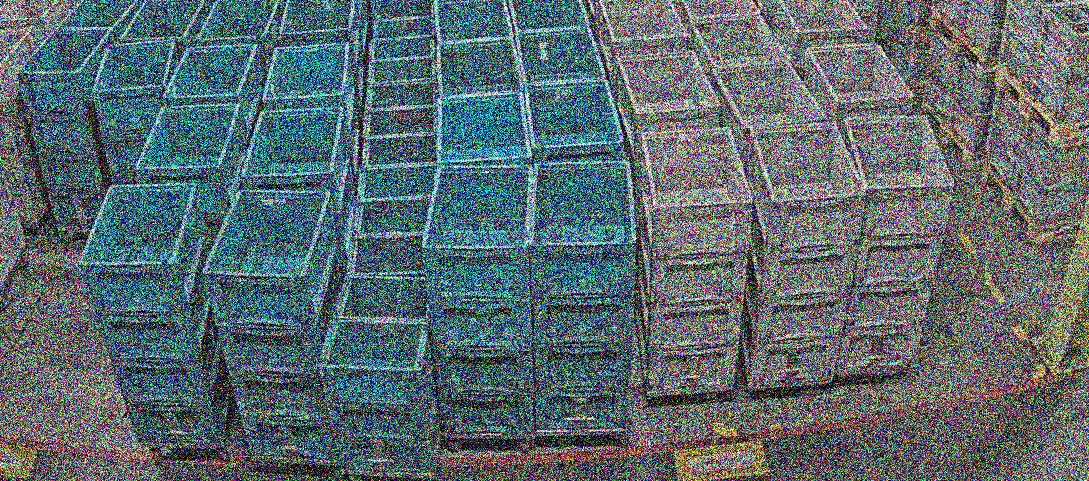4G: (740, 121, 868, 386), (636, 126, 755, 393), (835, 114, 956, 375)
B4: (75, 181, 233, 444), (201, 188, 343, 461), (419, 163, 534, 436), (529, 159, 638, 433), (90, 38, 180, 186)
B8: (317, 274, 441, 475)
